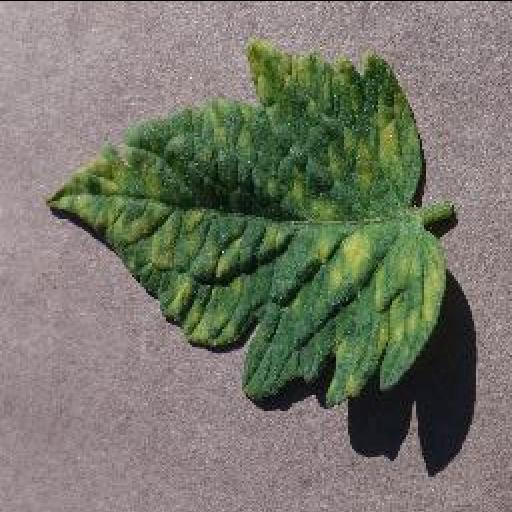disease_tomato: (46, 42, 446, 404)
